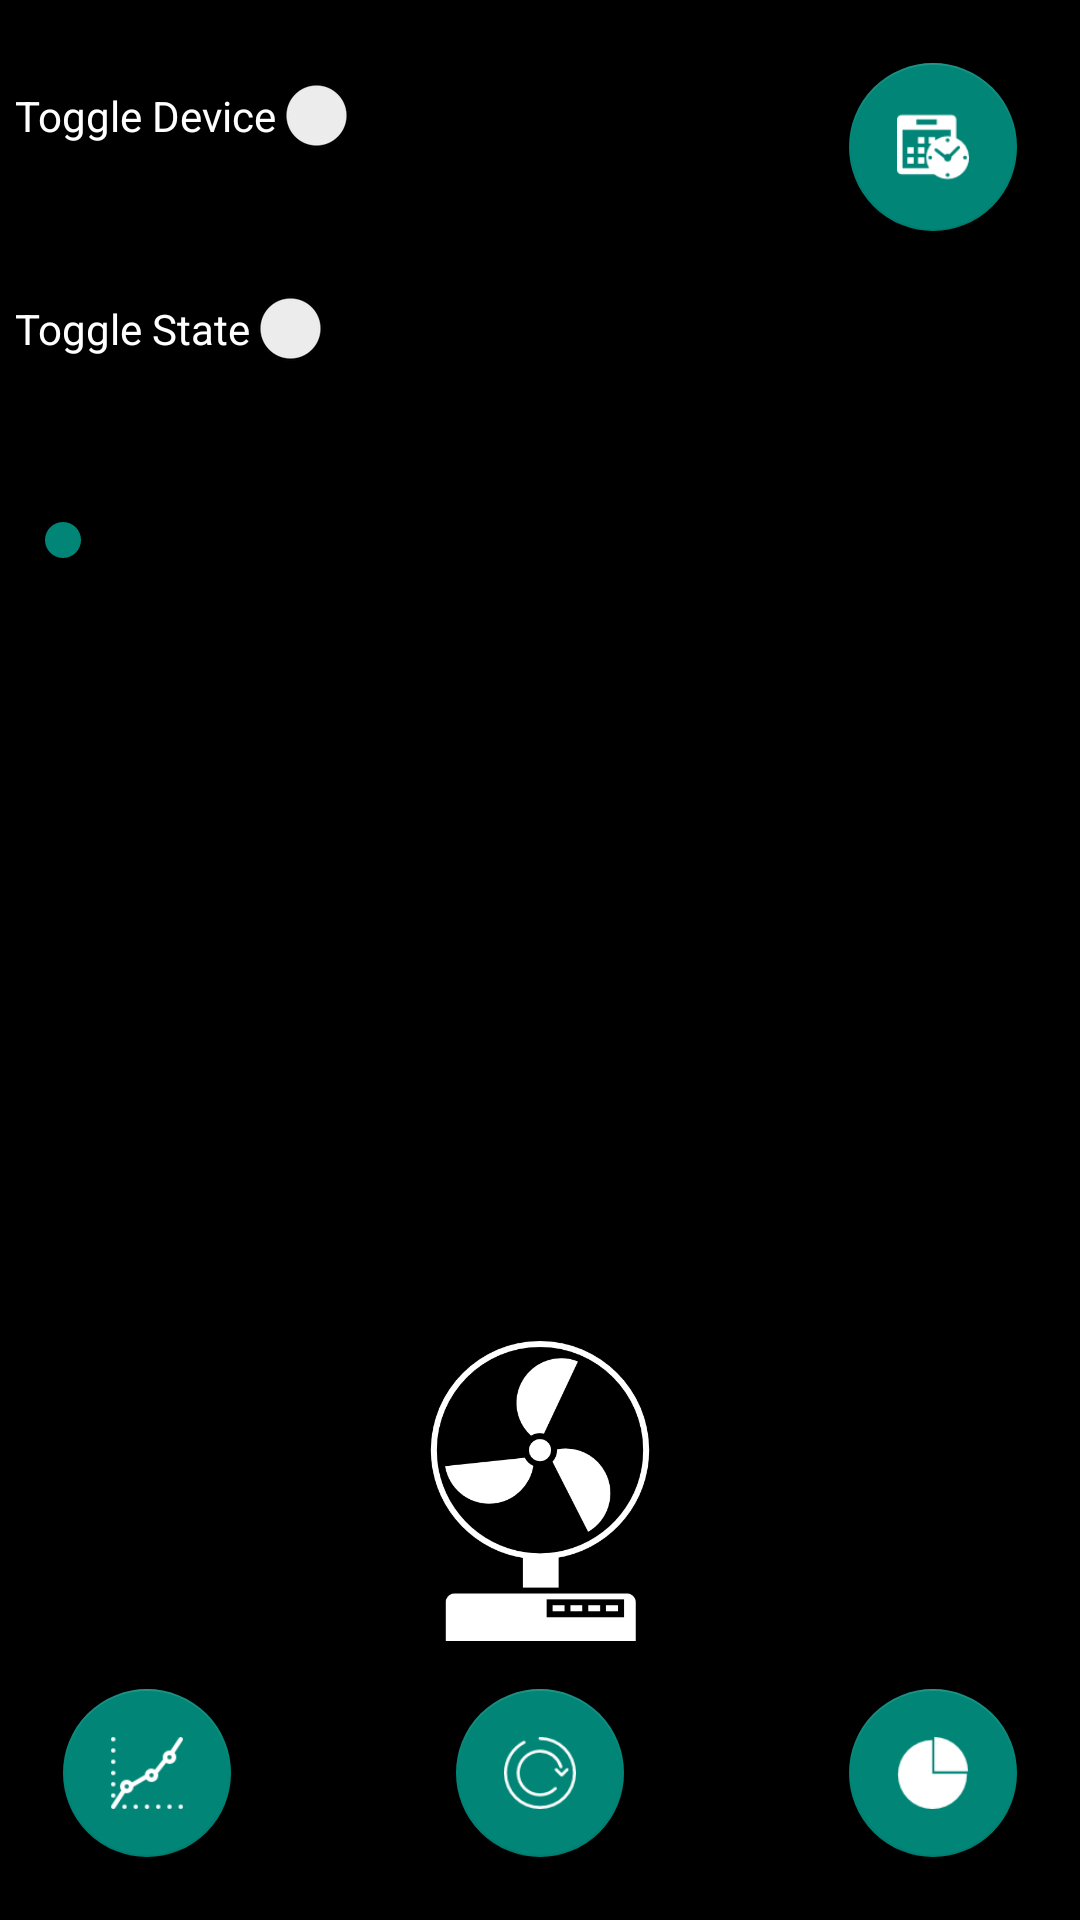

Named icons in this screenshot (1080*1920) and their bounding boxes, bbox(x1, y1, x2, y2):
fan: bbox(430, 1341, 650, 1641)
line: bbox(63, 1689, 231, 1857)
pie: bbox(849, 1689, 1017, 1857)
refreshicon: bbox(456, 1689, 624, 1857)
schedule: bbox(849, 63, 1017, 231)
